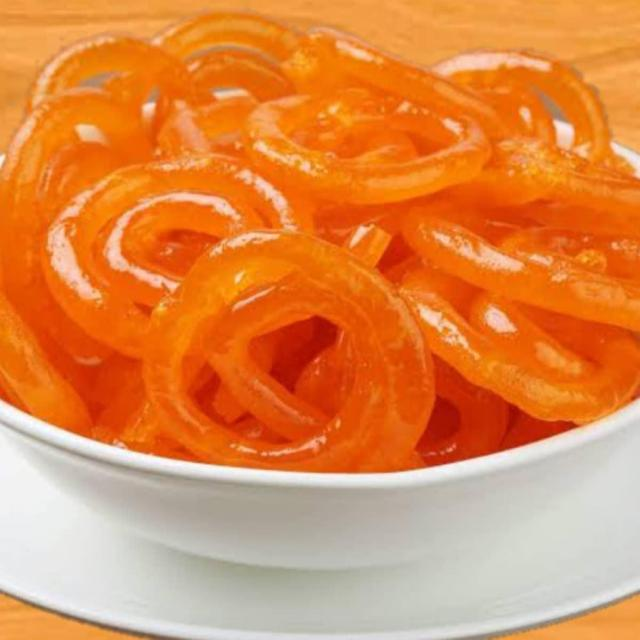jalebi: (17, 19, 639, 478)
